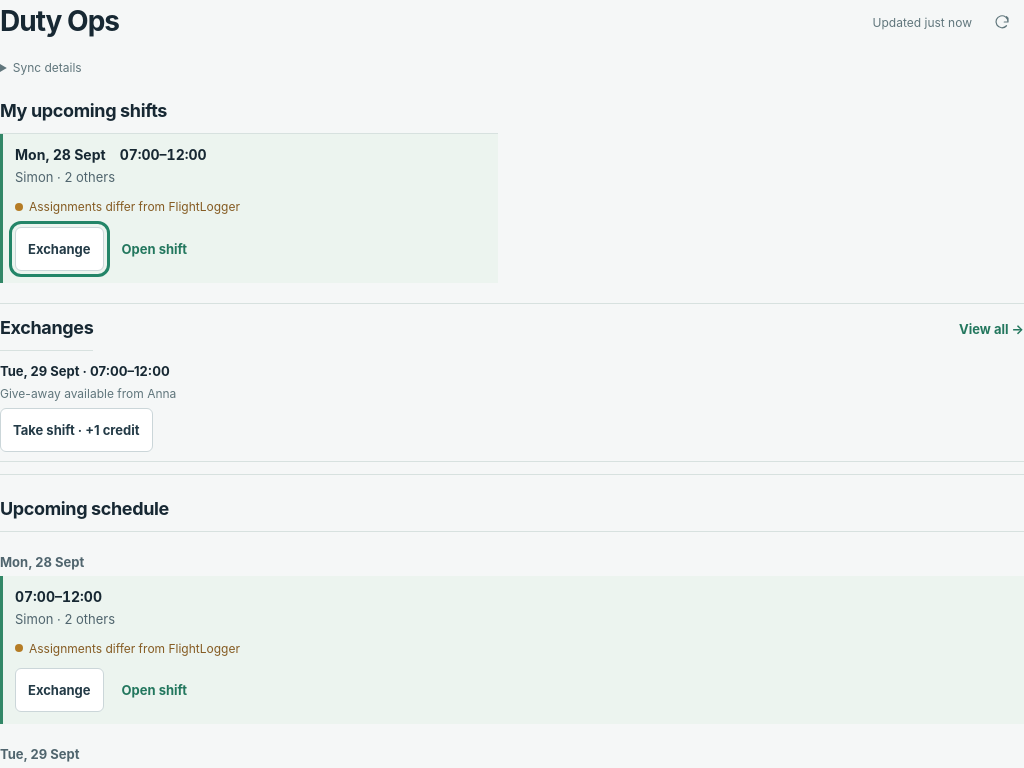
effective Duty Ops presentation › offers exchange on an own overview row and keeps other rows out of protected workspaces
Expected: the link to "/duty-ops/shifts/received" is shown, [122,241,187,257]
Expected: the list item with class "is-mine" shows "Simon · 2 others", [15,611,115,627]
Step 1. Click the button "Exchange" below "My upcoming shifts" → (59, 249), box [15,227,104,271]
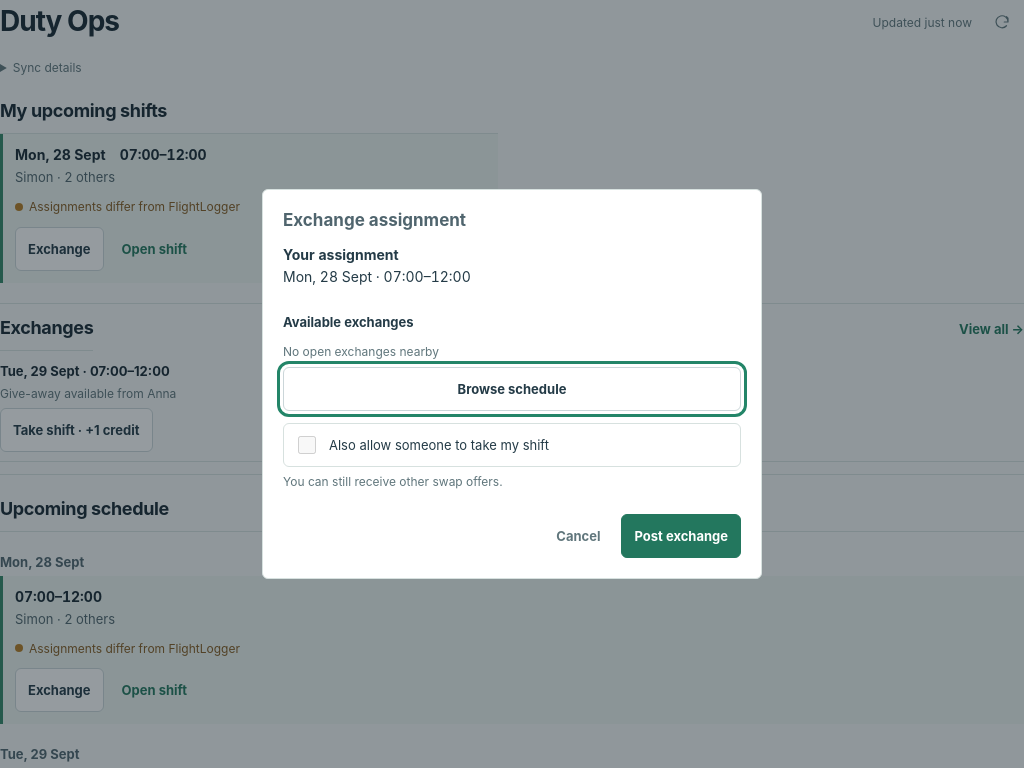
Now the dialog is shown, box [262,189,762,579]
Now the dialog shows "Available exchanges", box [283,314,414,330]
Now the submit button is enabled, box [622,514,741,558]
Step 2. Click the button "Cancel" → (578, 536), box [543,514,614,558]
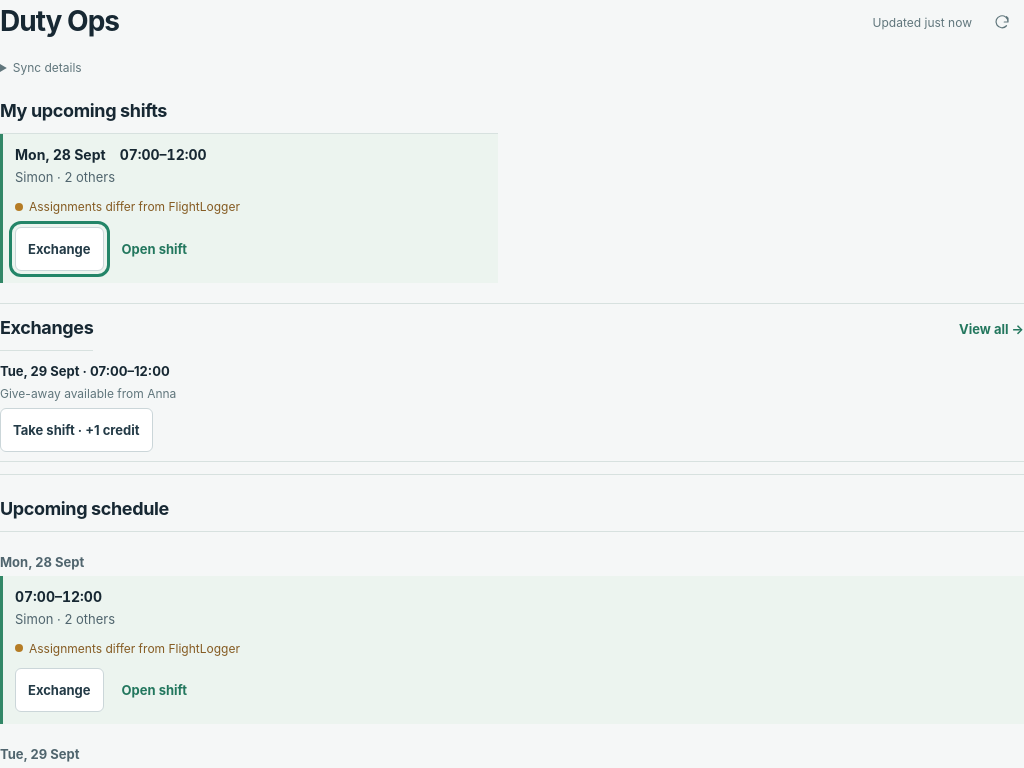
Now the dialog is gone
